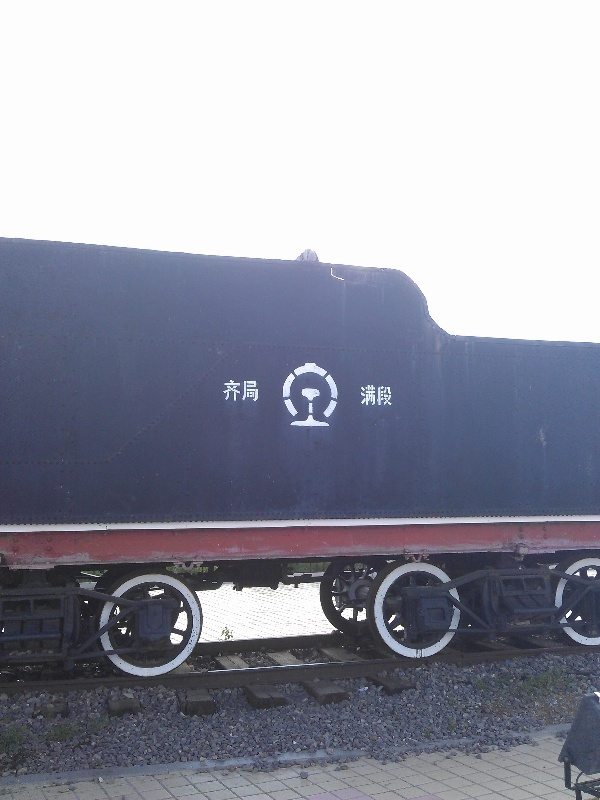text: (225, 379, 240, 403), (241, 379, 256, 403), (369, 385, 384, 407), (360, 385, 368, 407), (385, 385, 393, 407), (257, 379, 260, 403), (223, 379, 224, 403)
